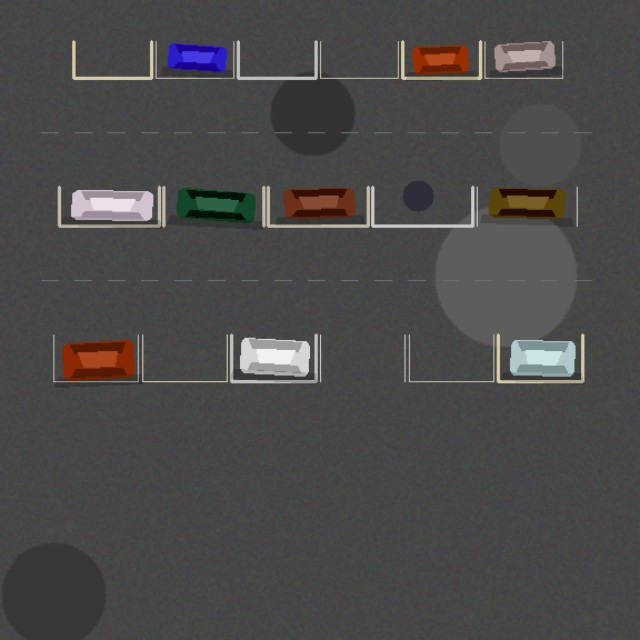space-empty: (142, 334, 227, 381), (320, 334, 404, 381), (409, 334, 493, 381), (372, 187, 472, 226), (73, 41, 151, 78), (238, 41, 316, 78), (320, 41, 398, 78)
space-occupied: (53, 334, 138, 381), (231, 334, 316, 381), (498, 334, 582, 381), (59, 187, 159, 226), (163, 187, 263, 226), (268, 187, 368, 226), (477, 187, 577, 226), (402, 41, 480, 78), (484, 41, 562, 78), (156, 41, 233, 78)
